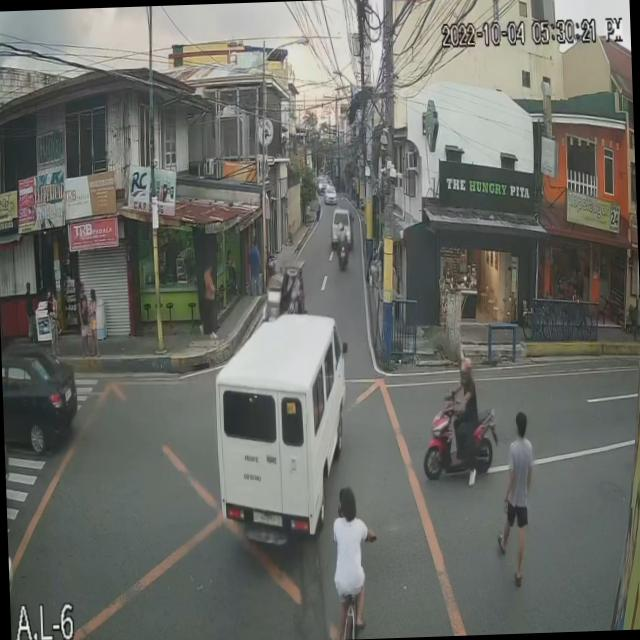full: (459, 358, 472, 386)
